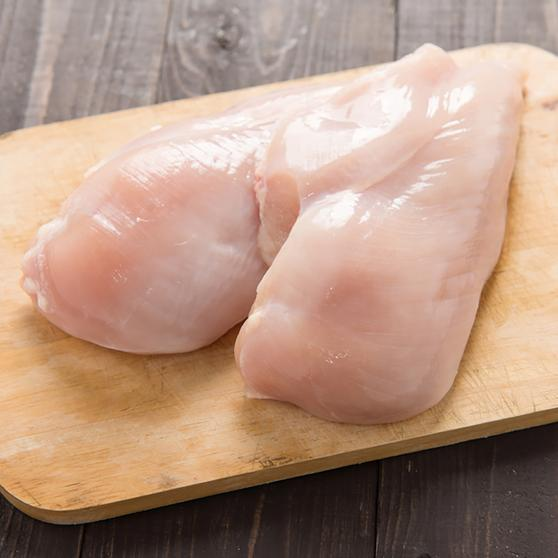chicken_fillet: (259, 49, 514, 428), (22, 64, 291, 355)
